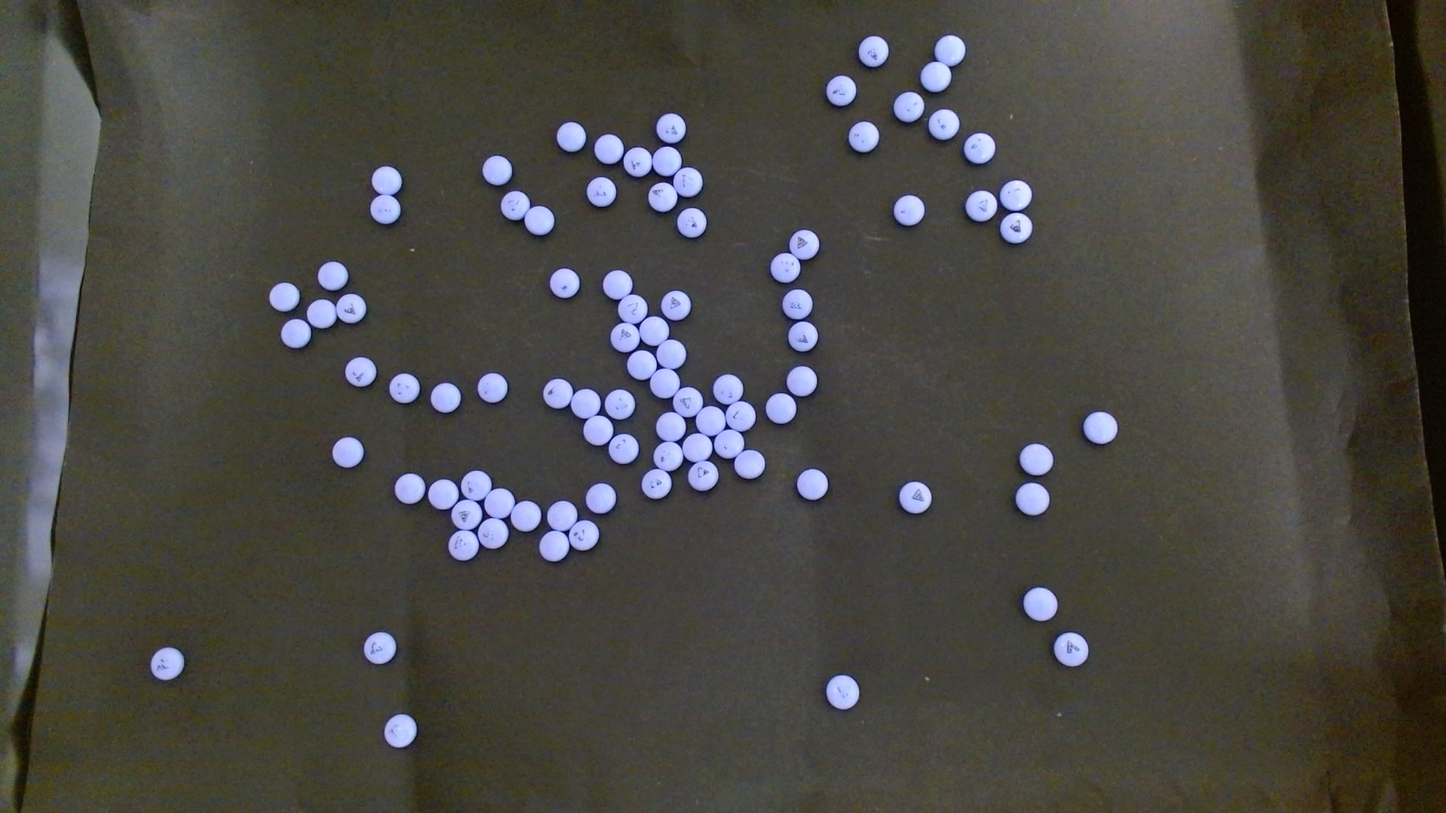Circle: (1053, 632, 1090, 667), (1081, 410, 1118, 445), (1022, 586, 1057, 621), (825, 674, 859, 709), (331, 435, 365, 469), (1014, 482, 1049, 515), (898, 481, 932, 514), (363, 631, 396, 665), (150, 647, 183, 680), (1018, 443, 1052, 475), (384, 713, 416, 747), (999, 212, 1032, 244), (1000, 178, 1032, 211), (797, 468, 828, 500), (892, 195, 924, 226), (965, 189, 996, 221), (963, 132, 994, 164), (394, 472, 425, 504), (538, 530, 569, 562), (641, 468, 672, 500), (567, 519, 599, 550), (655, 112, 686, 144), (605, 388, 636, 420), (477, 518, 508, 550), (280, 318, 311, 349), (825, 75, 856, 106), (317, 260, 348, 291), (934, 34, 965, 65), (460, 470, 491, 501), (602, 269, 633, 300), (654, 410, 685, 441), (652, 441, 683, 472), (928, 108, 958, 140), (920, 61, 950, 93), (593, 132, 623, 164), (627, 349, 657, 381), (848, 121, 878, 152), (345, 357, 376, 387), (370, 194, 401, 224), (477, 372, 507, 403), (894, 91, 924, 122), (335, 293, 366, 323), (523, 206, 554, 236), (549, 267, 579, 298), (765, 393, 795, 424), (733, 449, 764, 479), (770, 252, 801, 282), (781, 288, 812, 318), (448, 529, 478, 560), (583, 416, 614, 446), (858, 35, 888, 66), (789, 228, 819, 259), (428, 479, 458, 510), (556, 121, 586, 152), (673, 166, 703, 197), (652, 145, 682, 176), (510, 500, 540, 531), (484, 489, 514, 520), (713, 373, 743, 404), (450, 499, 480, 530), (610, 321, 640, 352), (639, 315, 669, 346), (682, 432, 712, 463), (695, 406, 725, 437), (616, 294, 647, 324), (725, 400, 755, 431), (651, 367, 681, 398), (673, 386, 703, 417), (676, 207, 706, 237), (389, 372, 419, 402), (585, 483, 615, 513), (269, 282, 299, 312), (542, 377, 572, 407), (687, 460, 717, 490), (714, 428, 744, 458), (431, 382, 460, 413), (547, 500, 576, 531), (660, 290, 691, 319), (656, 339, 685, 370), (571, 388, 600, 419), (788, 321, 817, 351), (500, 190, 529, 220), (371, 165, 401, 194), (787, 365, 816, 395), (647, 181, 676, 211), (482, 154, 511, 184), (609, 434, 638, 464), (307, 299, 336, 328), (587, 176, 615, 206), (623, 147, 651, 177)
